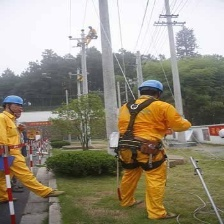helmet: (136, 79, 169, 92), (3, 95, 24, 106)
person: (113, 78, 193, 224), (4, 94, 50, 220)
vest: (118, 101, 189, 145), (2, 115, 29, 165)
